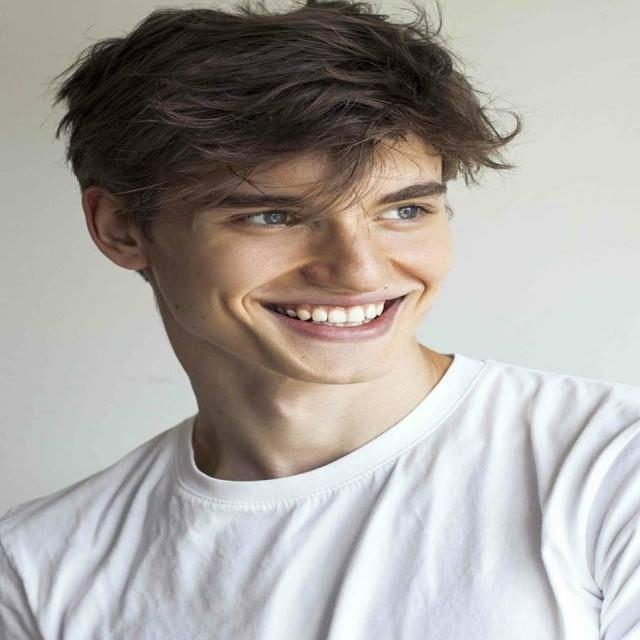earlobe: (82, 186, 148, 272)
